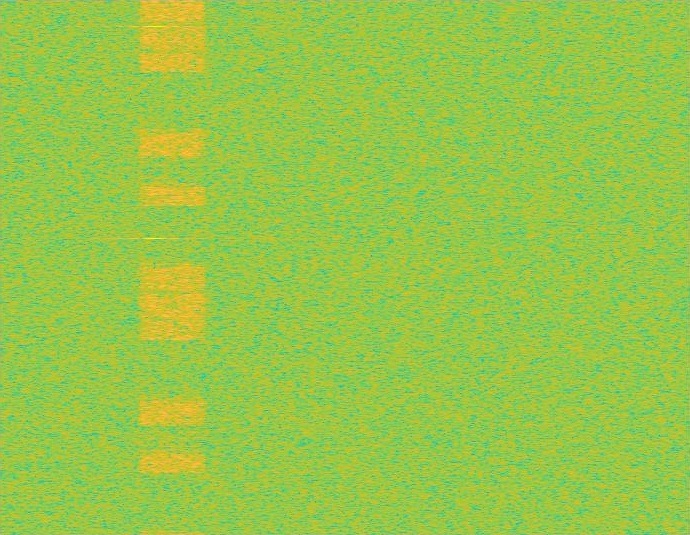LTE: (138, 0, 207, 534)
Radar: (148, 0, 162, 534)
